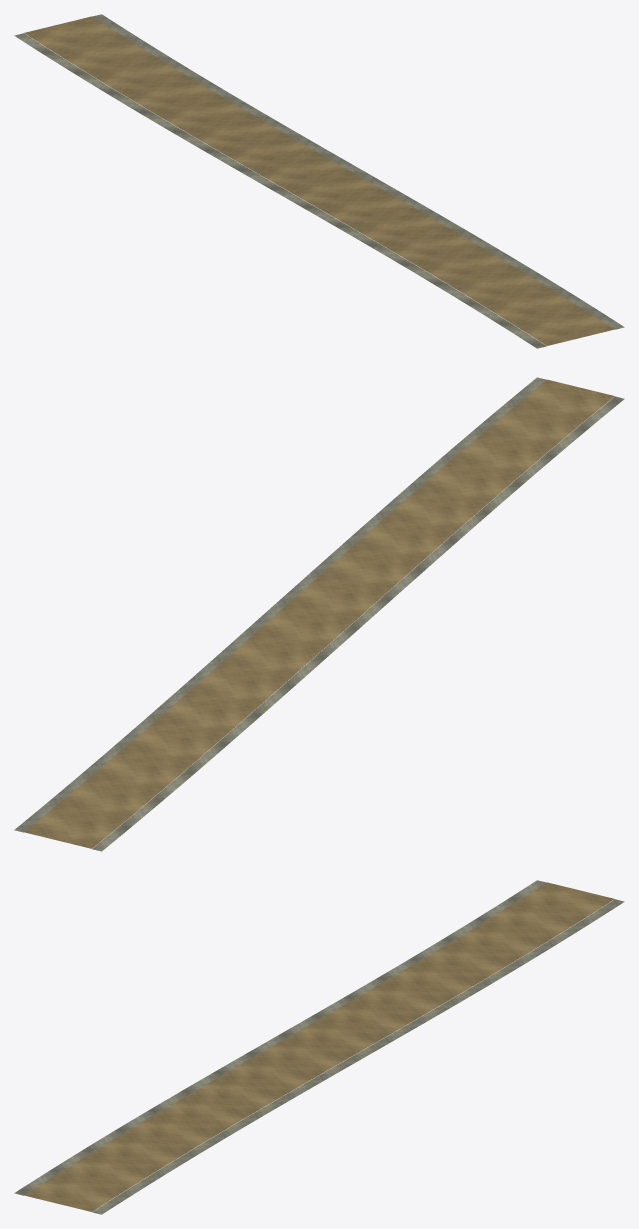
Rendered from road_forest_hill_64m.glb.
3 views of the same model, one above another, from view 1: azimuth 30°, elevation 25°; view 2: azimuth 150°, elevation 25°; view 3: azimuth 330°, elevation 25° (orthographic).
Visible parts, largest first — view 1: road_surface, static_gravel; view 2: road_surface, static_gravel; view 3: road_surface, static_gravel.
Part boxes in pixels (x1=…): road_surface: x1=24, y1=16, x2=614, y2=345; static_gravel: x1=14, y1=14, x2=624, y2=348; road_surface: x1=24, y1=379, x2=614, y2=848; static_gravel: x1=14, y1=377, x2=624, y2=851; road_surface: x1=24, y1=882, x2=614, y2=1211; static_gravel: x1=14, y1=880, x2=624, y2=1214.
Bounding box in the file's own units: 6.2 × 4.73 × 64.
Materials: 2 (2 with a texture image).
